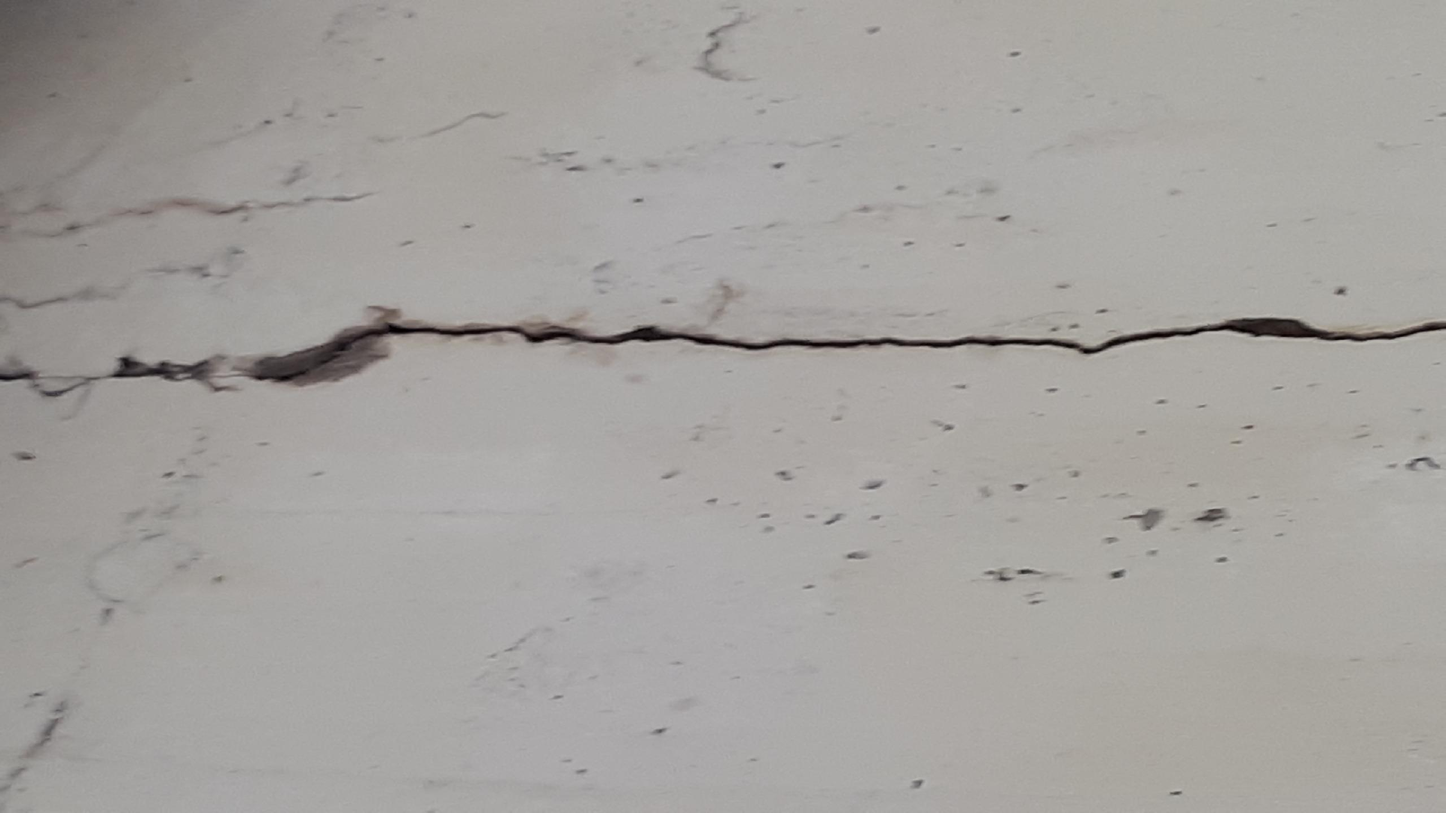crack: (2, 305, 1445, 397)
